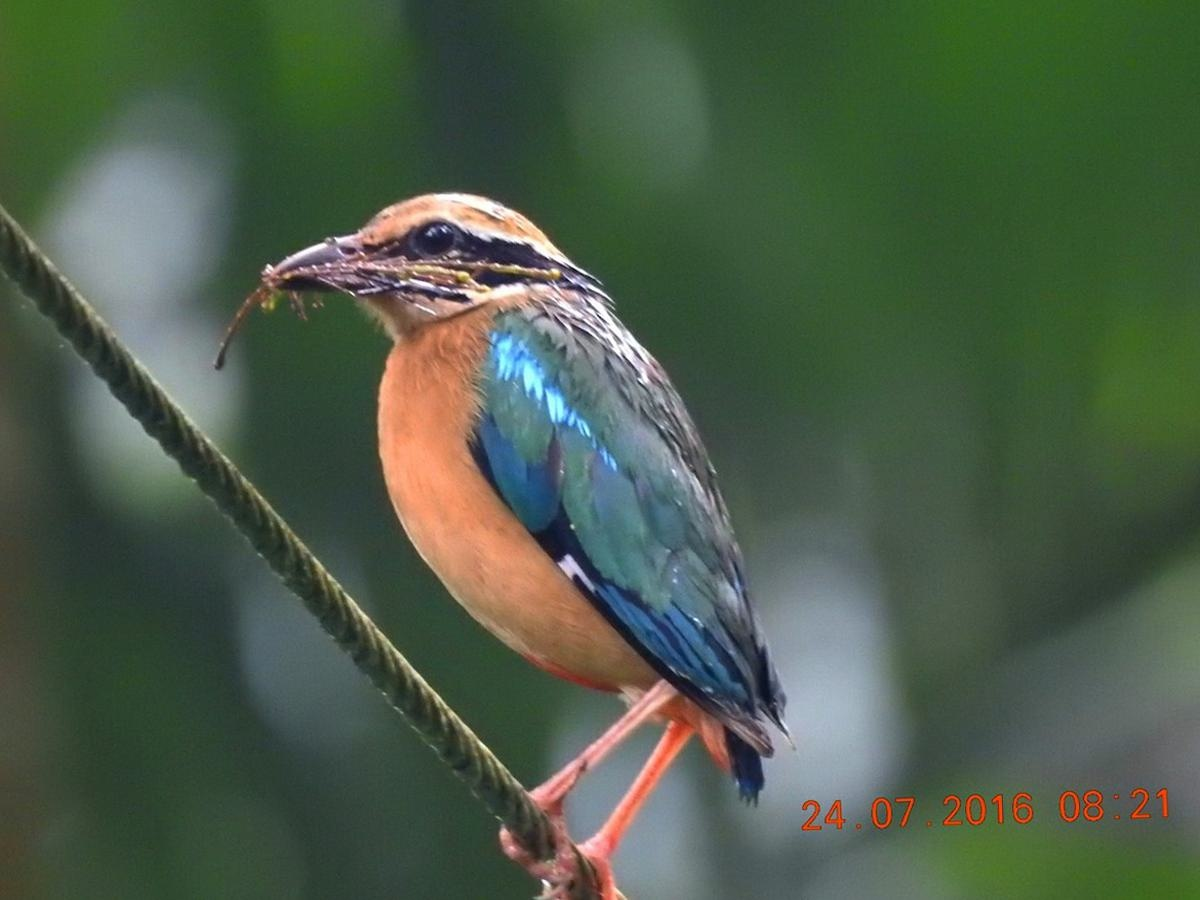pitta: (228, 142, 757, 894)
